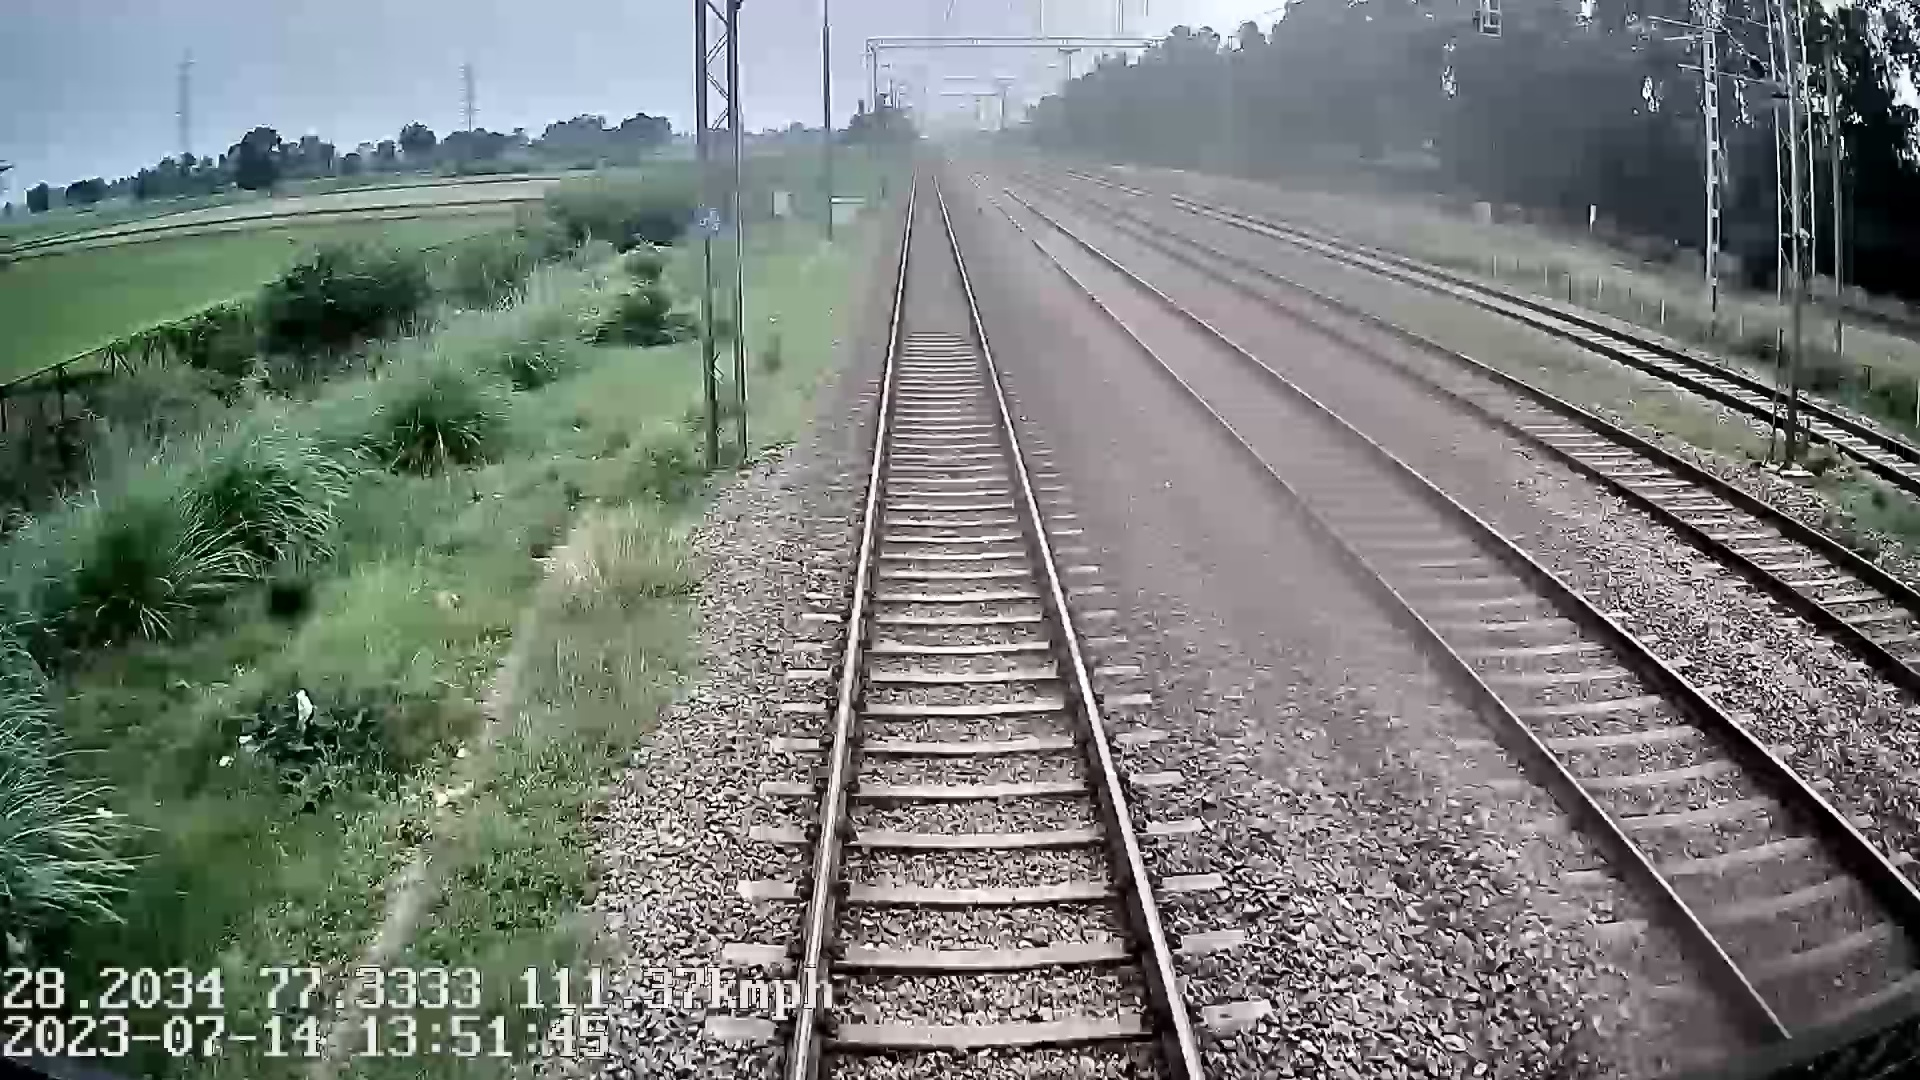track1: (799, 177, 1192, 1060)
track2: (967, 174, 1919, 1022)
track3: (1116, 216, 1919, 658)
track4: (1204, 208, 1919, 483)
